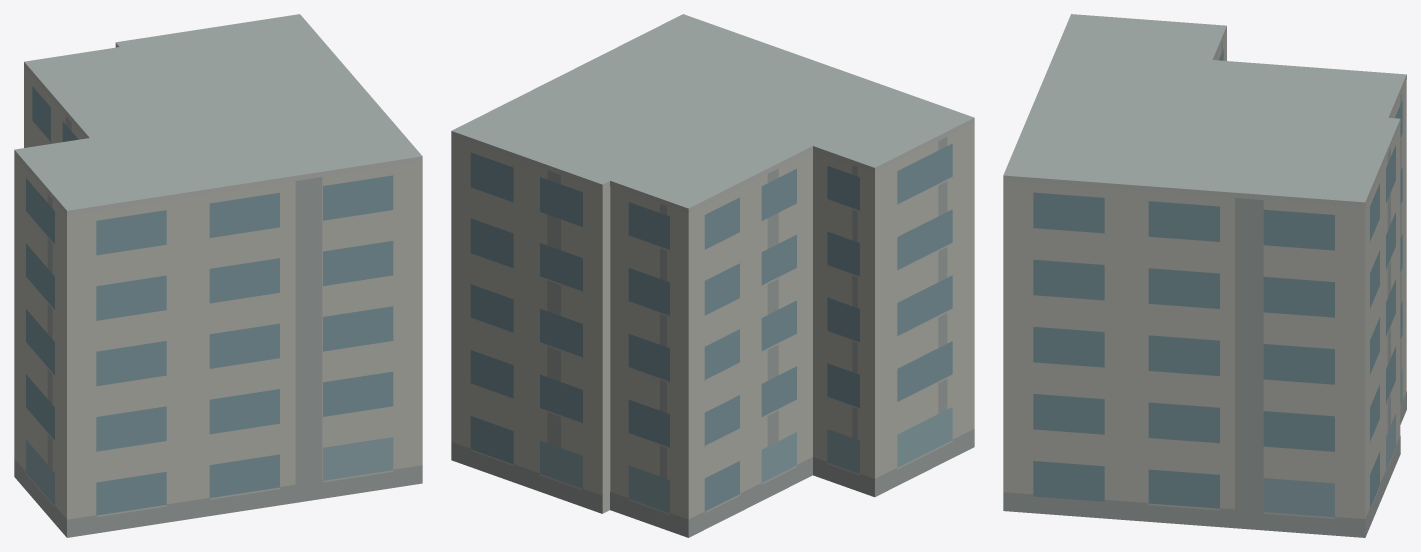
The model's file is survey-upis-32939399.glb.
3 renders of one model, left to right at view 1: azimuth 30°, elevation 25°; view 2: azimuth 150°, elevation 25°; view 3: azimuth 270°, elevation 25°, orthographic. The views are drawn at different scales.
Visible parts, largest first — view 1: survey-upis-32939399.tmp; view 2: survey-upis-32939399.tmp; view 3: survey-upis-32939399.tmp.
Part boxes in pixels (x1=…): survey-upis-32939399.tmp: x1=14, y1=14, x2=422, y2=537; survey-upis-32939399.tmp: x1=451, y1=14, x2=974, y2=537; survey-upis-32939399.tmp: x1=1003, y1=14, x2=1406, y2=537.
Bounding box in the file's own units: 18.37 × 15.25 × 16.63.
